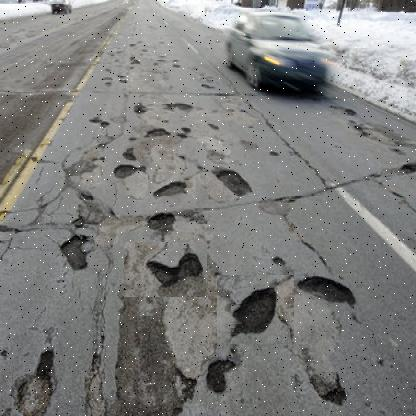pothole: (216, 275, 294, 345), (123, 242, 207, 298), (294, 264, 371, 312), (55, 228, 103, 281), (212, 159, 255, 201), (147, 169, 196, 204)
